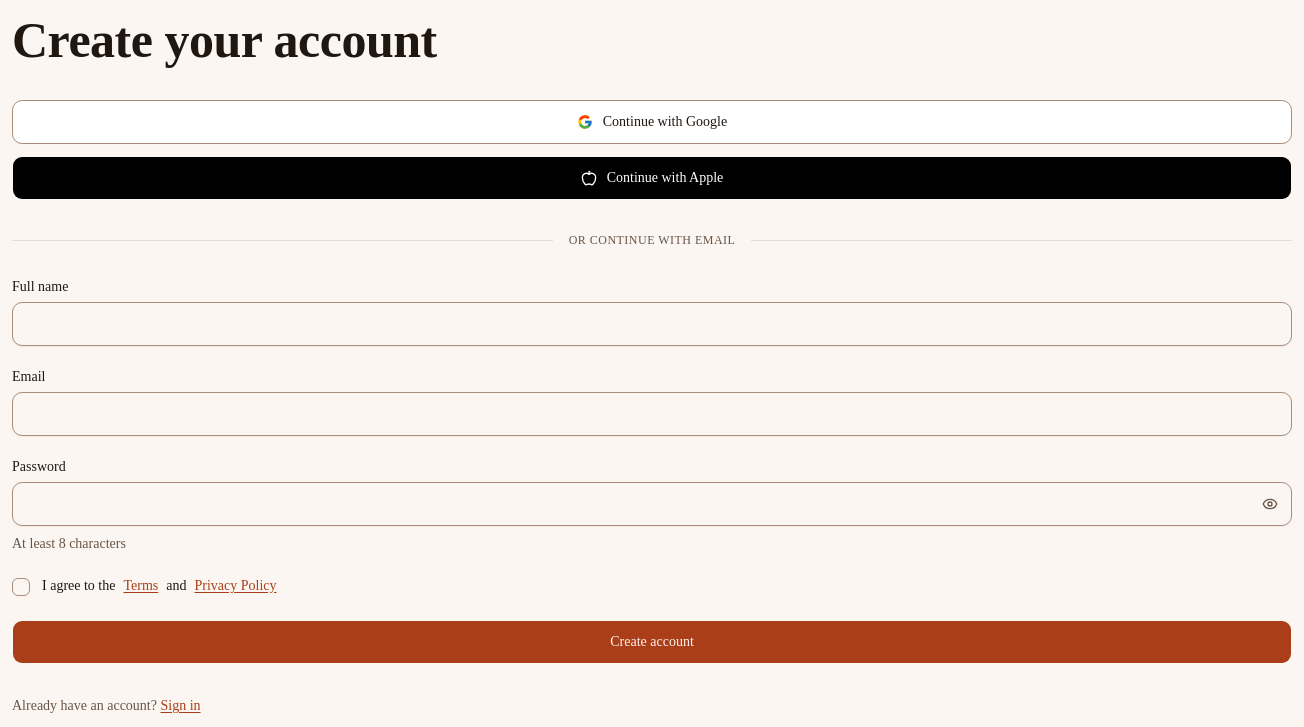
Test case: SignUpForm › shows a "sign in instead" link pre-filling the email on auth/email-already-in-use
This screenshot has width=1304, height=727.
In the field labelled "Full name": (652, 324) [12,302,1292,346], type "Sarah Cole"
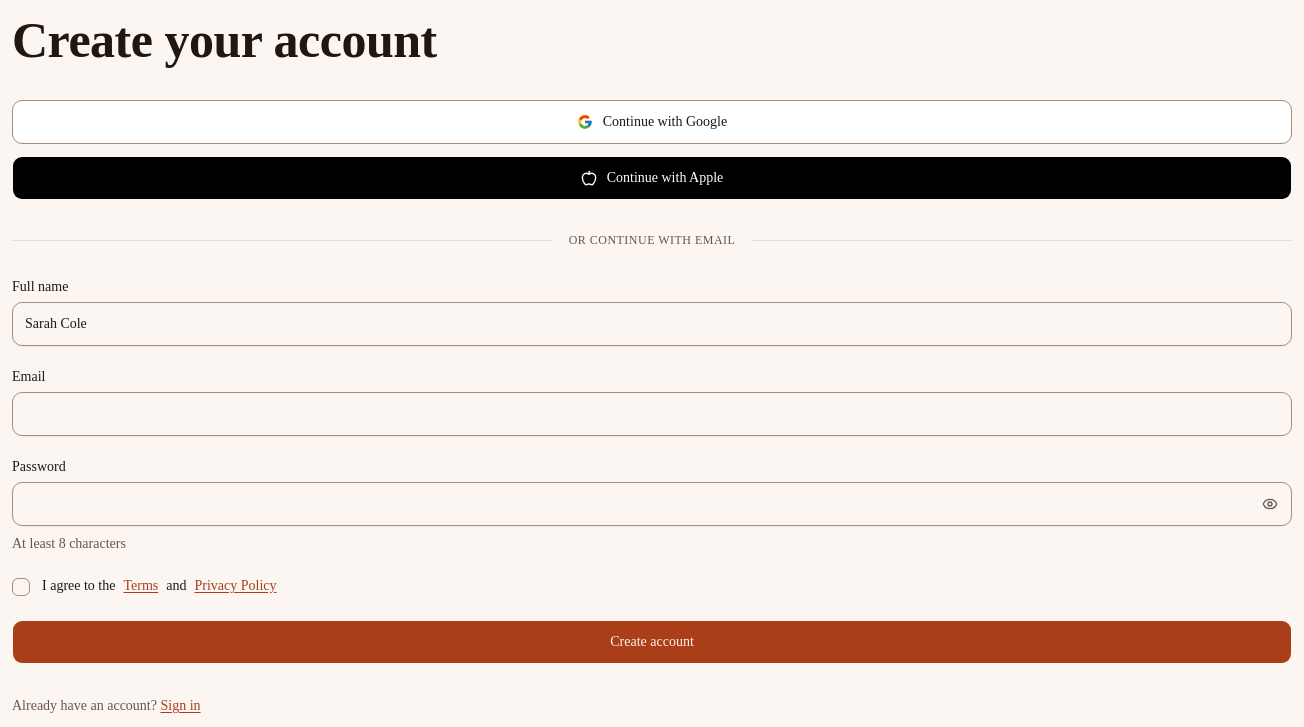
In the field labelled "Email": (652, 414) [12,392,1292,436], type "taken@example.com"
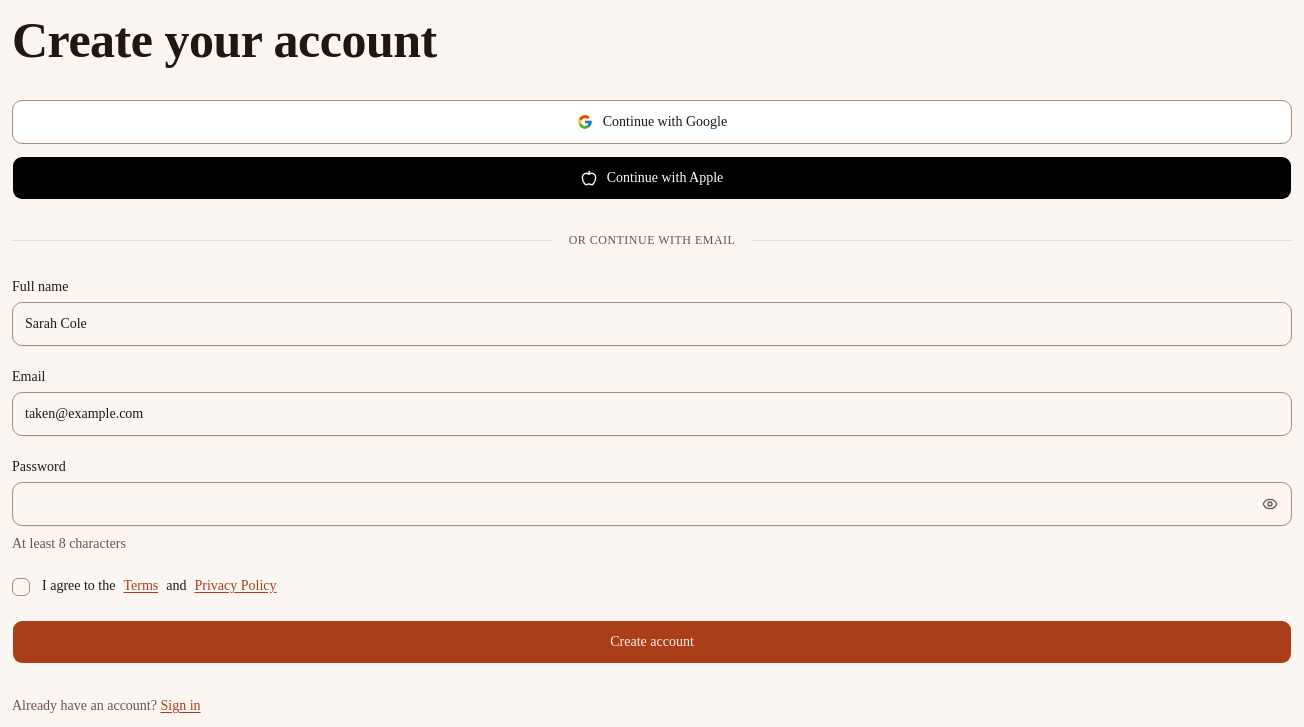
In the password field labelled "Password": (652, 504) [12,482,1292,526], type "correct-horse"
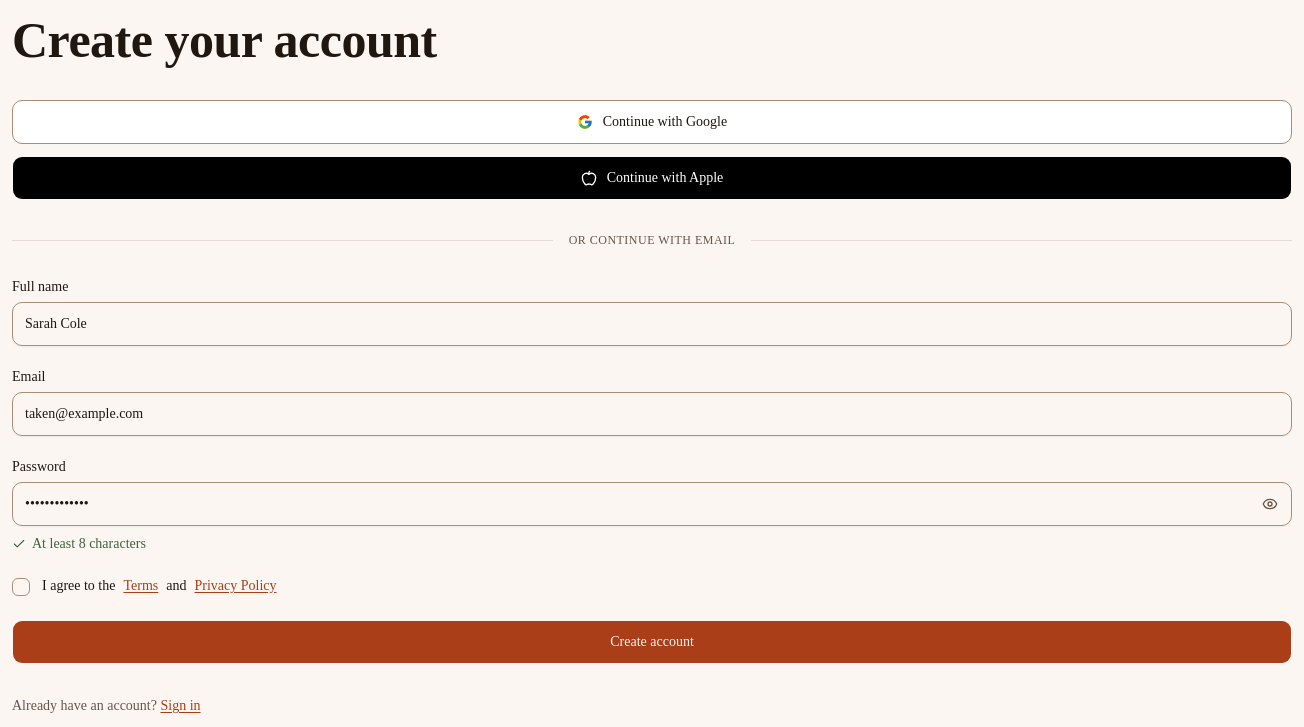
Click the checkbox: (21, 587) [12,578,30,596]
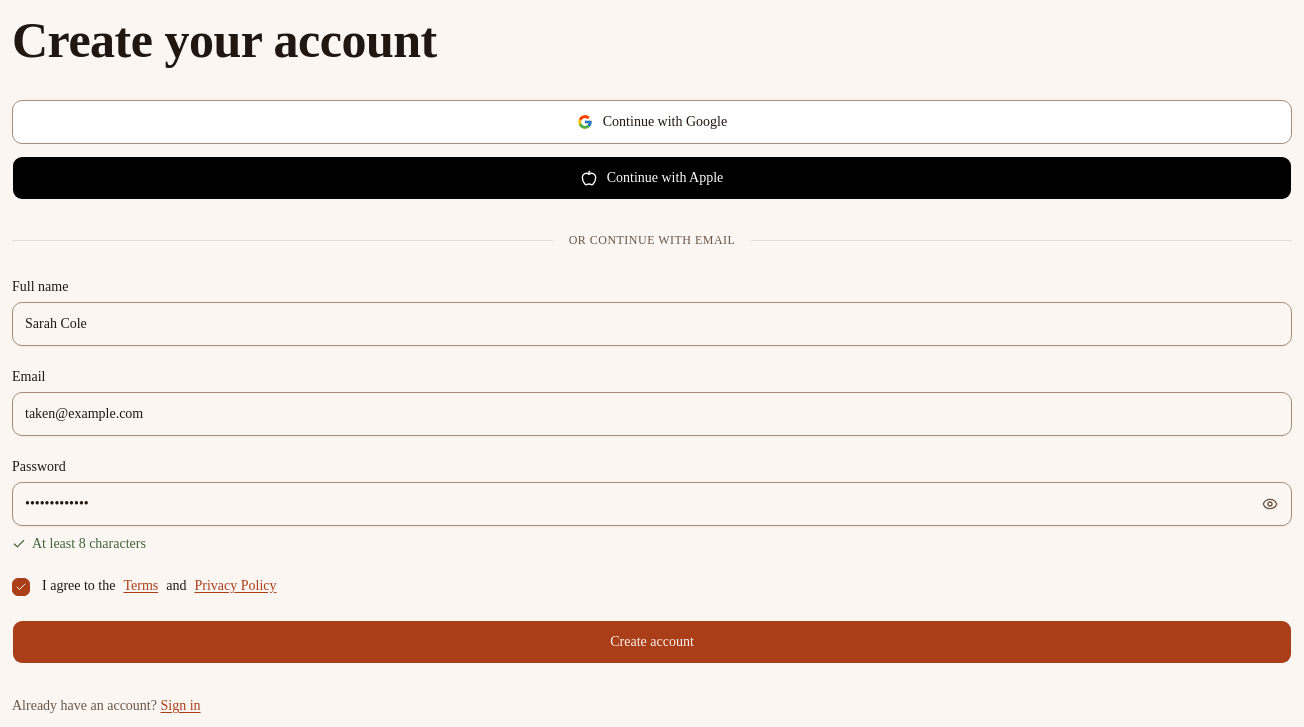
Click the button "Create account": (652, 642) [12,620,1292,664]
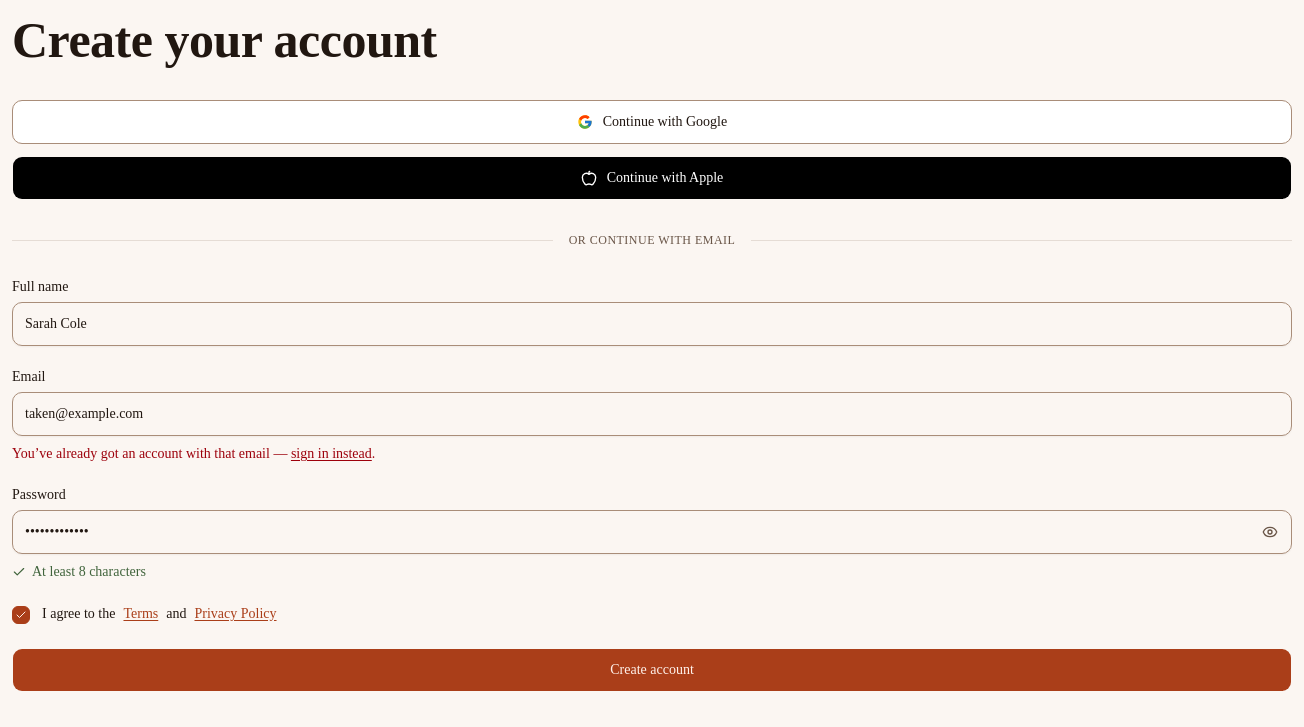
Result: the link "sign in instead" is shown at [291,446,372,461]
